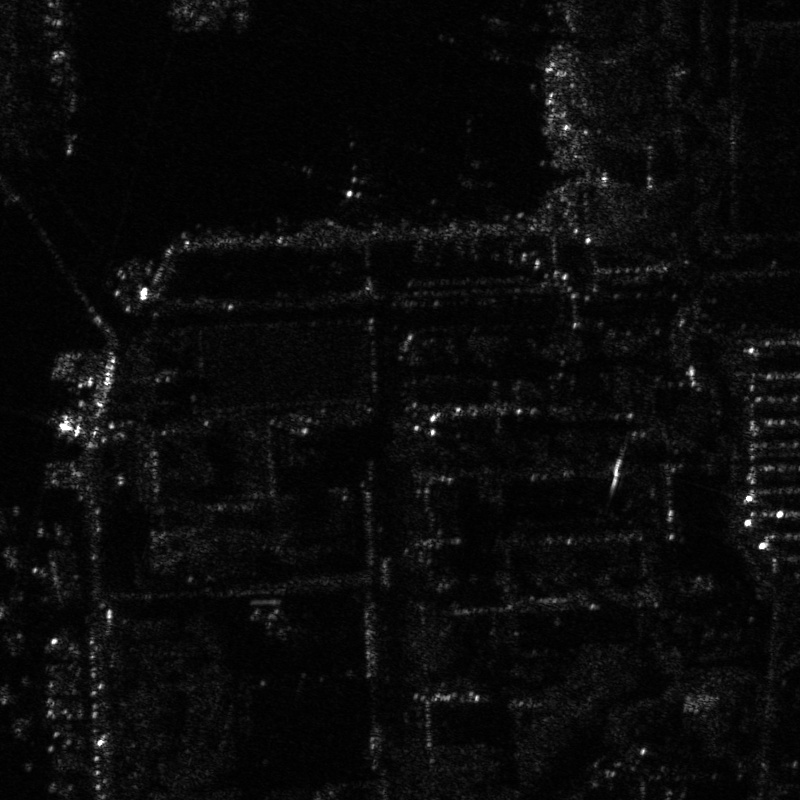Boeing787: (397, 109, 503, 215)
other: (280, 121, 403, 213)
